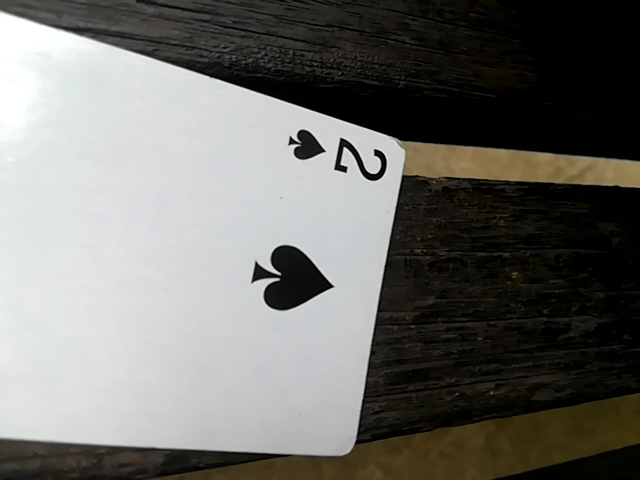ht 2: (4, 4, 417, 469)
